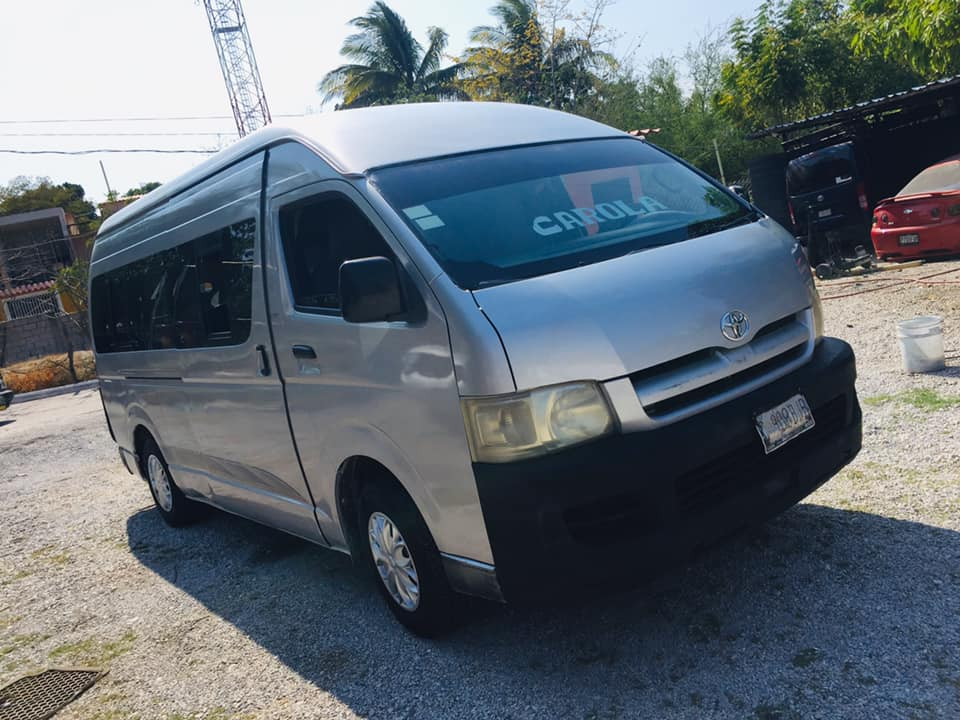bus: (84, 100, 864, 631)
